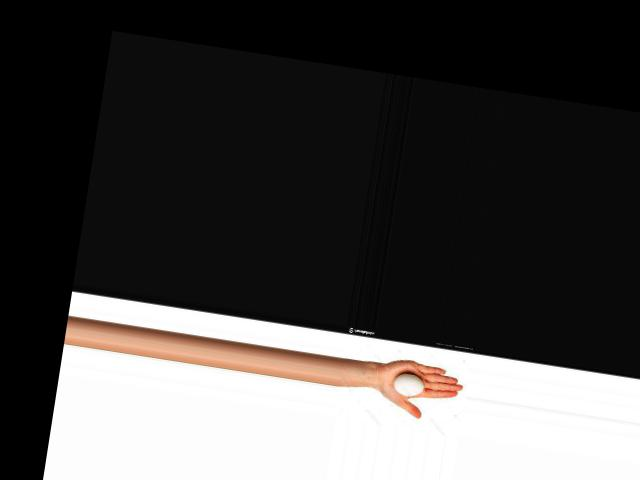egg: (393, 372, 425, 397)
